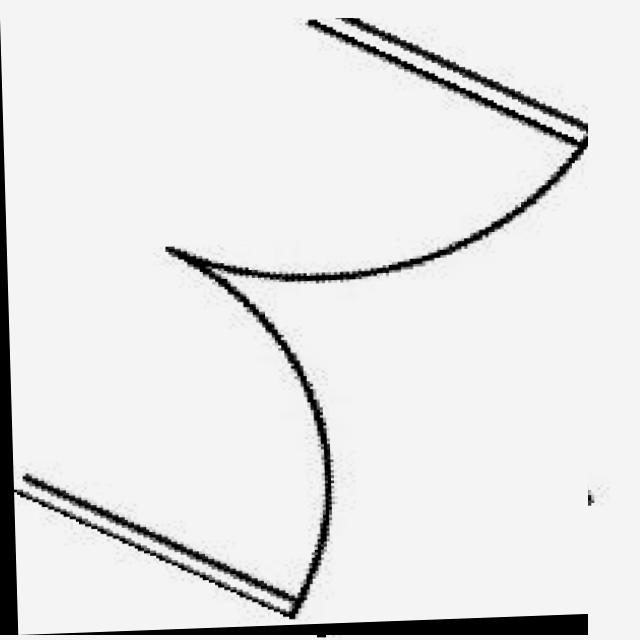door: (0, 18, 588, 635)
